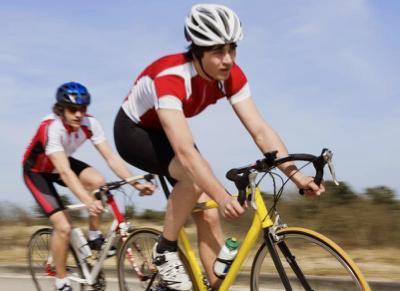With Helmet: (180, 4, 247, 81), (56, 81, 92, 129)
